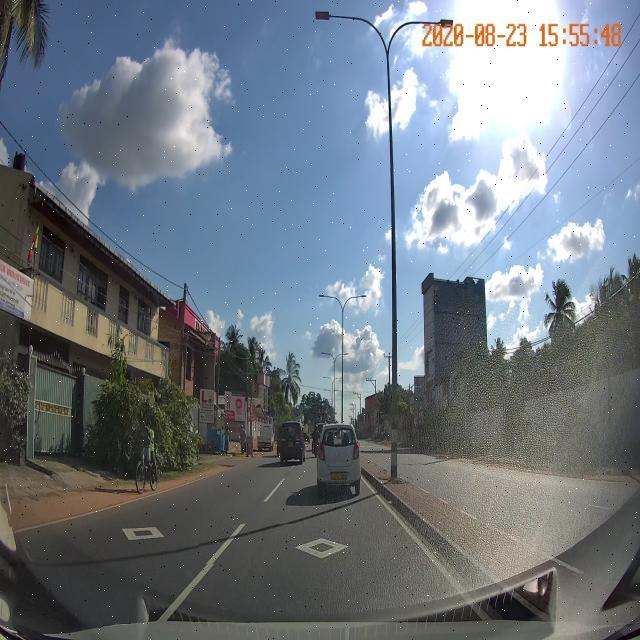diamond: (200, 524, 441, 564)
